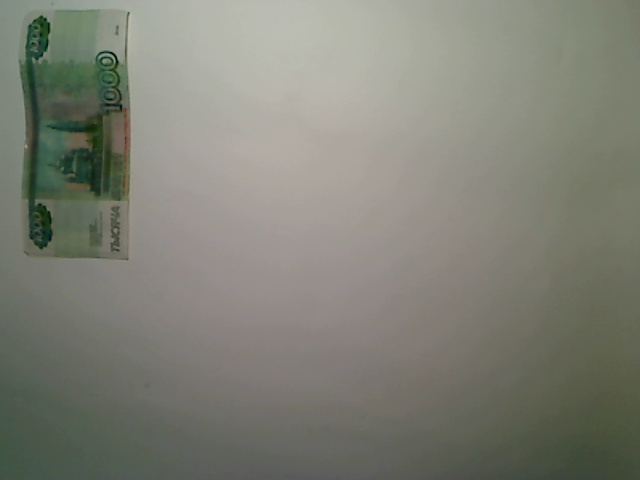banknotes: (14, 1, 136, 266)
